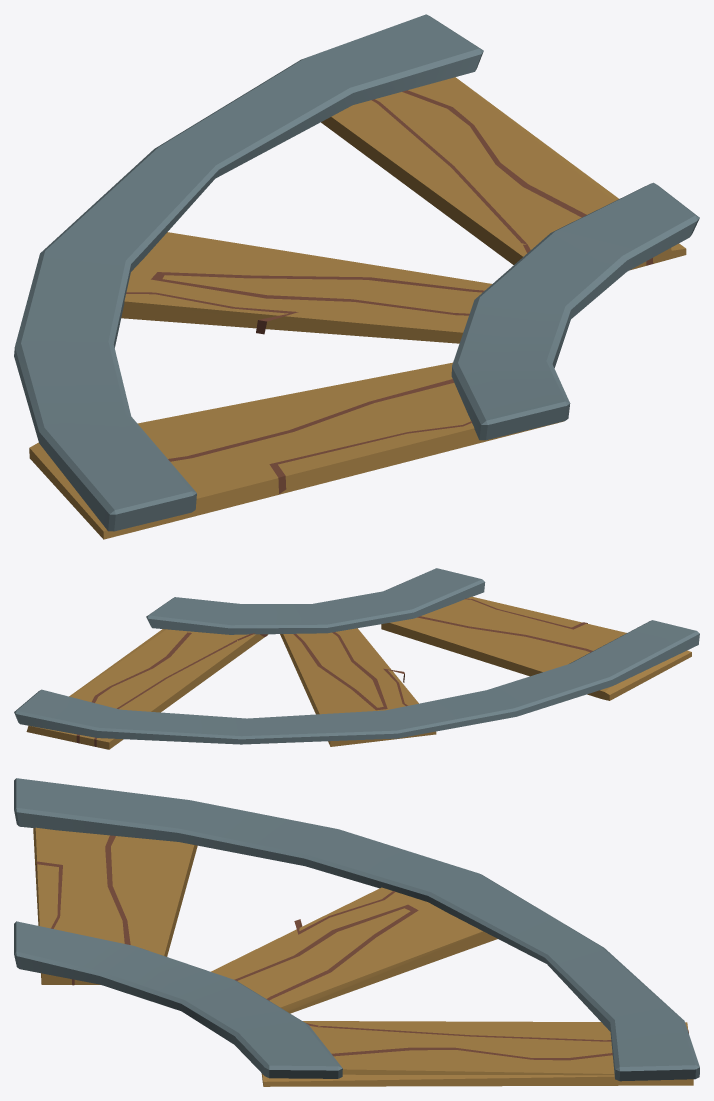
File: DE_Railway_02.fbx
3 views of the same model, one above another, from view 1: azimuth 30°, elevation 25°; view 2: azimuth 150°, elevation 25°; view 3: azimuth 270°, elevation 25° (orthographic). The views are drawn at different scales.
Visible parts, largest first — view 1: DE_Railway_02; view 2: DE_Railway_02; view 3: DE_Railway_02.
Part boxes in pixels (x1,y1,x2,y2): DE_Railway_02: (14,14,699,539); DE_Railway_02: (14,568,699,749); DE_Railway_02: (14,778,699,1086).
Bounding box in the file's own units: 305 × 16.37 × 304.
